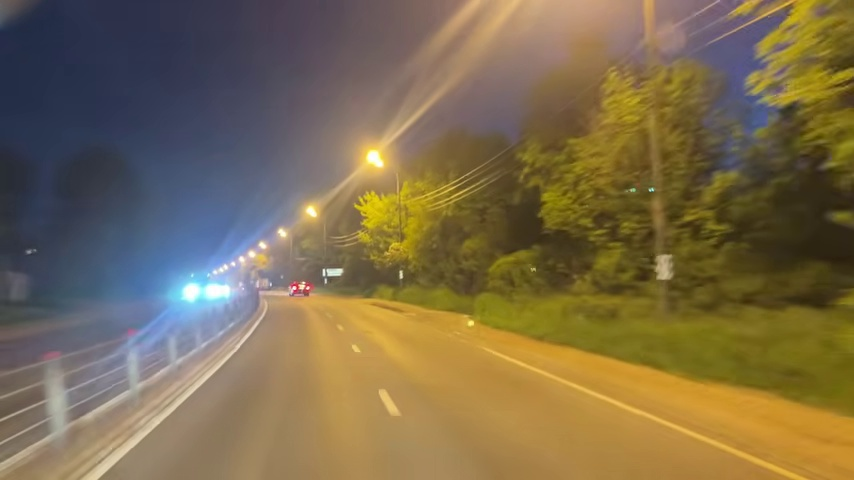acesa: (360, 145, 390, 175), (300, 202, 322, 223)
